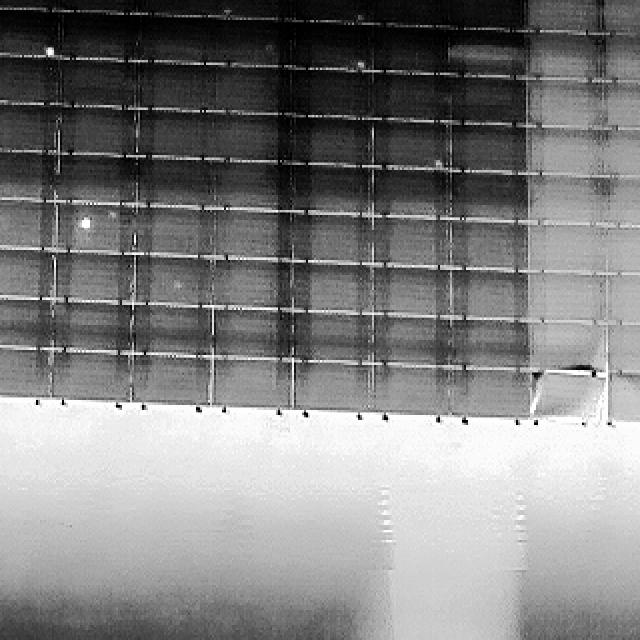Hotspots: (77, 214, 98, 234), (39, 40, 56, 60), (351, 56, 368, 76), (350, 13, 370, 30), (426, 152, 444, 169)
PV-modules: (447, 368, 537, 420), (45, 348, 128, 402), (446, 320, 532, 372), (132, 307, 215, 360), (290, 261, 376, 312), (51, 302, 131, 356), (133, 254, 213, 308), (131, 354, 214, 406), (288, 364, 371, 416), (290, 66, 376, 116), (449, 171, 533, 222), (208, 113, 290, 165), (292, 312, 374, 364), (52, 252, 134, 304), (525, 225, 605, 278), (448, 268, 528, 321), (370, 367, 453, 418), (526, 271, 607, 323), (212, 163, 293, 215), (52, 202, 133, 254), (290, 118, 374, 168), (447, 223, 527, 275), (527, 176, 606, 228), (374, 315, 453, 367), (134, 204, 213, 256), (291, 213, 373, 263), (528, 321, 605, 374), (212, 20, 292, 71), (449, 123, 532, 172), (212, 356, 290, 408), (212, 259, 291, 310), (56, 157, 138, 206), (374, 167, 451, 219), (214, 208, 291, 260), (524, 77, 604, 127), (214, 310, 292, 361), (291, 25, 372, 74), (137, 158, 213, 210), (293, 168, 372, 218), (56, 107, 136, 156), (374, 265, 452, 315), (523, 34, 601, 84), (449, 74, 527, 124), (531, 372, 603, 426), (56, 14, 137, 62), (213, 65, 290, 115), (373, 220, 451, 269), (135, 108, 211, 158), (527, 126, 603, 176), (138, 18, 214, 68), (58, 58, 137, 106), (449, 30, 531, 76), (373, 26, 451, 74), (137, 62, 213, 111), (375, 119, 451, 167), (374, 72, 452, 118), (0, 148, 58, 198), (0, 245, 54, 297), (0, 100, 56, 150), (0, 8, 56, 58), (0, 55, 58, 103), (0, 195, 52, 247), (0, 343, 52, 395), (522, 0, 598, 35), (0, 298, 52, 348), (446, 0, 528, 28), (366, 0, 450, 25), (605, 375, 640, 428), (605, 178, 640, 230), (606, 323, 640, 376), (604, 78, 640, 128), (604, 128, 640, 178), (605, 228, 640, 279), (290, 0, 370, 22), (607, 273, 640, 325), (605, 34, 640, 82), (138, 0, 222, 18), (218, 0, 292, 20), (604, 0, 640, 30), (58, 0, 140, 12), (0, 0, 62, 10)
